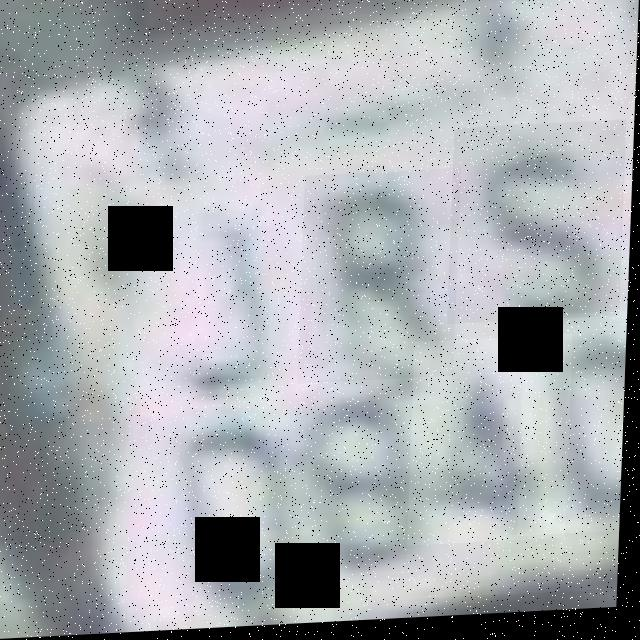0: (150, 377, 345, 633), (524, 318, 630, 542)
4: (411, 340, 577, 551)
8: (278, 365, 458, 599)
R: (300, 173, 462, 387)
S: (450, 126, 628, 329)
